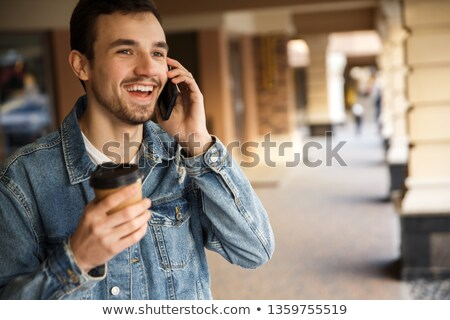phone: (161, 49, 199, 135)
talk: (102, 30, 217, 144)
